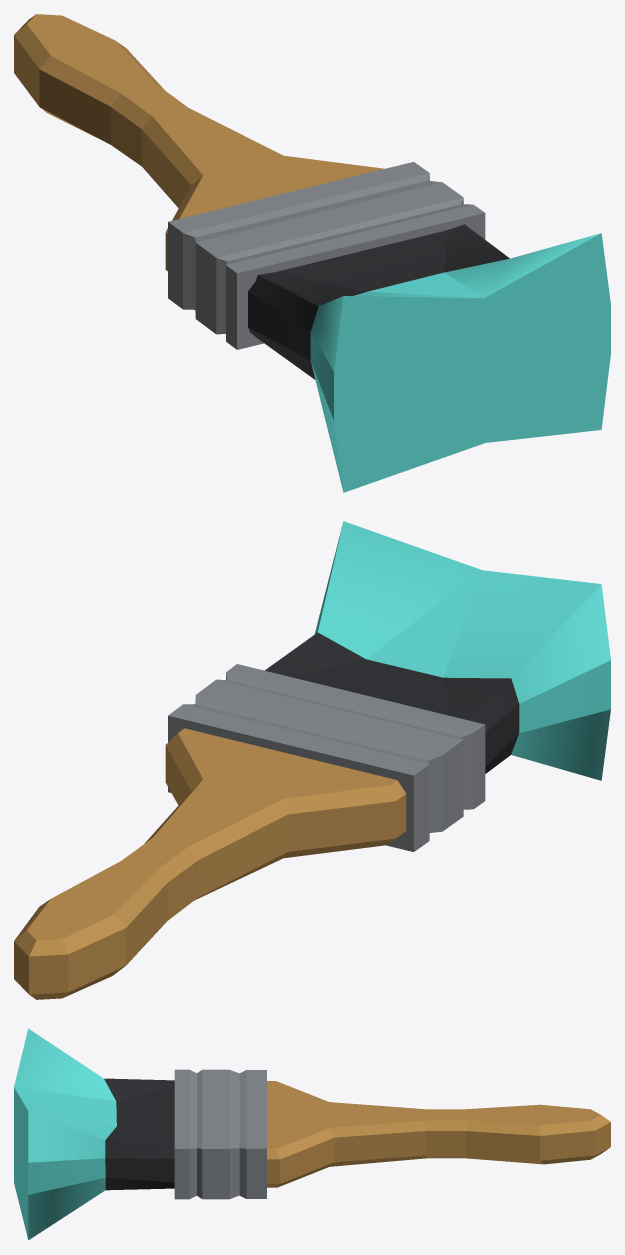
File: SM_Prop_Tool_Paint_Brush_02.fbx
The picture shows the model from 3 angles, top to bottom: view 1: azimuth 30°, elevation 25°; view 2: azimuth 150°, elevation 25°; view 3: azimuth 270°, elevation 25°; orthographic projection. The views are drawn at different scales.
Visible parts, largest first — view 1: SM_Prop_Tool_Paint_Brush_02; view 2: SM_Prop_Tool_Paint_Brush_02; view 3: SM_Prop_Tool_Paint_Brush_02.
Part boxes in pixels (x1,y1,x2,y2): SM_Prop_Tool_Paint_Brush_02: (14,14,610,492); SM_Prop_Tool_Paint_Brush_02: (14,521,610,999); SM_Prop_Tool_Paint_Brush_02: (14,1028,610,1240).
Bounding box in the file's own units: 15.99 × 10.87 × 45.46.
